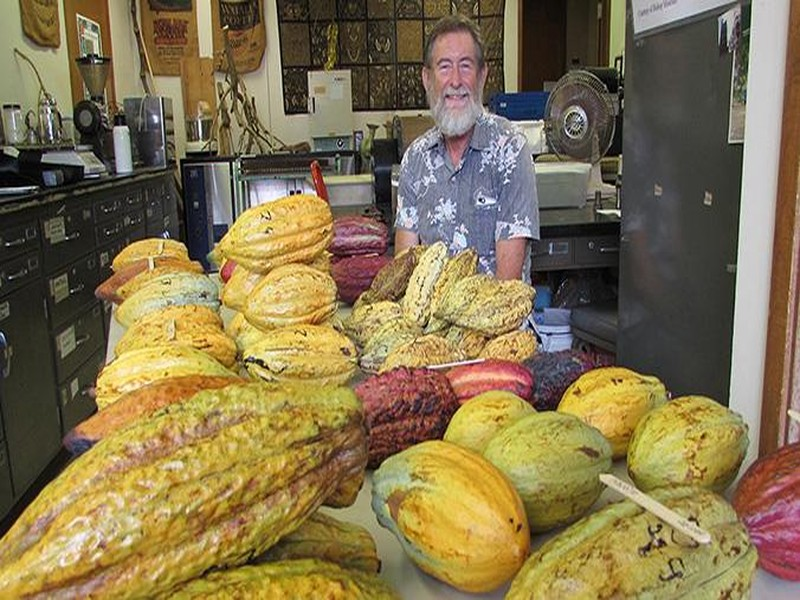Cacaopod: (221, 193, 339, 263)
